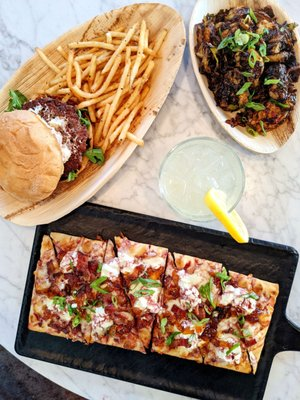sushi: (0, 1, 186, 228), (188, 0, 300, 155)
